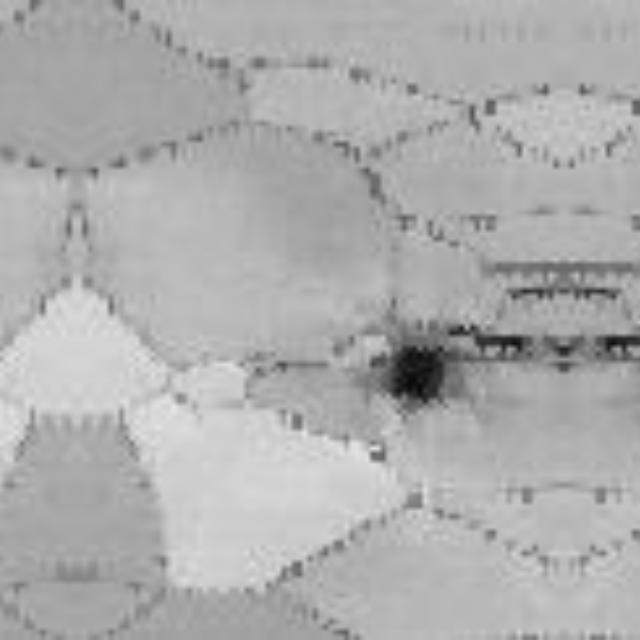good_void: (374, 322, 529, 414)
